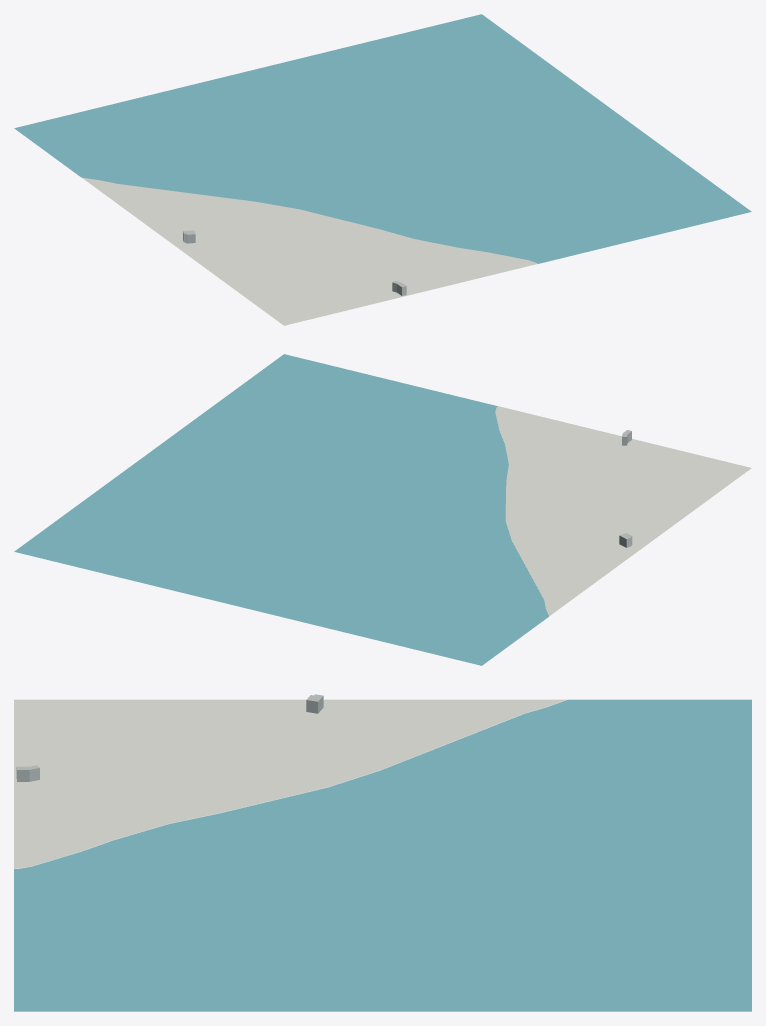
3 views of the same model, one above another, from view 1: azimuth 30°, elevation 25°; view 2: azimuth 150°, elevation 25°; view 3: azimuth 270°, elevation 25° (orthographic). The views are drawn at different scales.
Visible parts, largest first — view 1: city; view 2: city; view 3: city.
Part boxes in pixels (x1,y1,x2,y2): city: [14, 14, 751, 325]; city: [14, 354, 751, 665]; city: [14, 694, 751, 1011].
Size of the model in its own units: 500 by 9.18 by 500.
